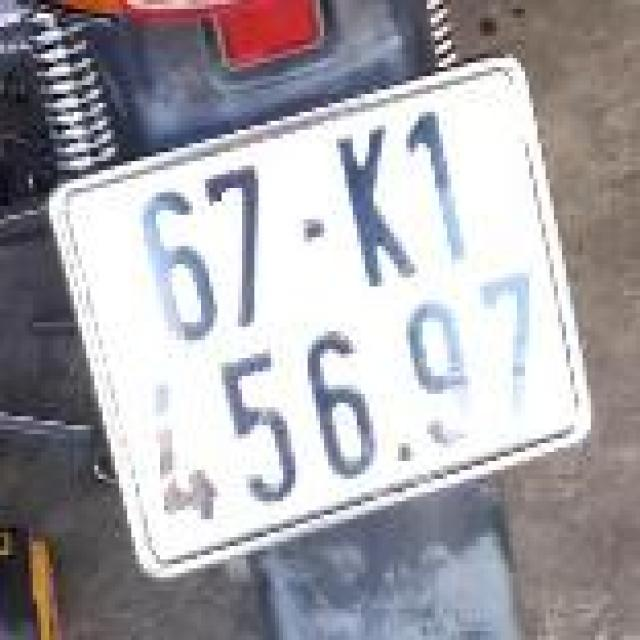1: (408, 96, 482, 275)
4: (127, 372, 226, 542)
5: (215, 347, 298, 526)
6: (136, 179, 213, 354), (302, 327, 379, 488)
7: (209, 147, 275, 336), (484, 276, 546, 428)
9: (396, 293, 482, 463)
K: (330, 123, 408, 284)
